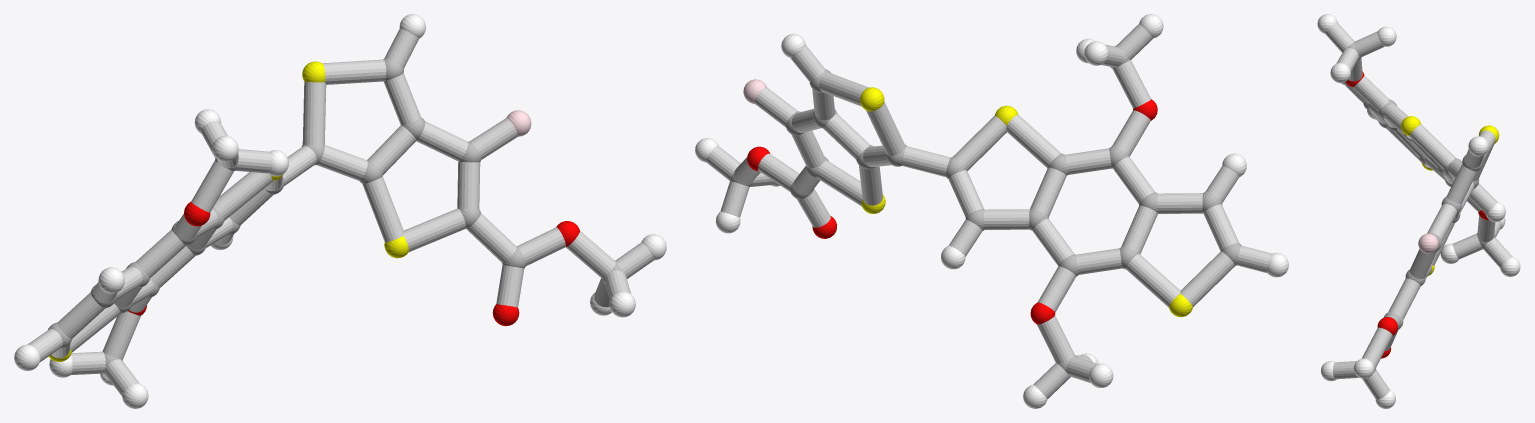
The model's file is Dimethoxy_Benzodithiophene_Phi_25_Theta_110_Methylcarbonyl_3_Fluoro_Thienothiophene.glb.
The picture shows the model from 3 angles, left to right: view 1: azimuth 30°, elevation 25°; view 2: azimuth 150°, elevation 25°; view 3: azimuth 270°, elevation 25°; orthographic projection. The views are drawn at different scales.
Visible parts, largest first — view 1: grp15205, grp8689, grp1, grp13395, grp7241; view 2: grp15205, grp8689, grp1, grp7241, grp13395; view 3: grp15205, grp8689, grp1, grp7241, grp13395, grp14843.
Boxes of the visible parts, x1,y1,x2,y2 form: grp15205: (27, 28, 653, 395); grp8689: (14, 14, 666, 408); grp1: (48, 58, 623, 374); grp13395: (128, 201, 579, 326); grp7241: (48, 61, 408, 361); grp15205: (706, 23, 1272, 398); grp8689: (695, 14, 1288, 408); grp1: (730, 46, 1241, 371); grp7241: (860, 87, 1192, 317); grp13395: (747, 99, 1157, 324); grp15205: (1325, 22, 1512, 399); grp8689: (1317, 14, 1520, 408); grp1: (1347, 43, 1495, 372); grp7241: (1401, 116, 1499, 275); grp13395: (1345, 71, 1488, 358); grp14843: (1418, 233, 1438, 253).
Bounding box in the file's own units: 16.74 × 8.37 × 5.95.
